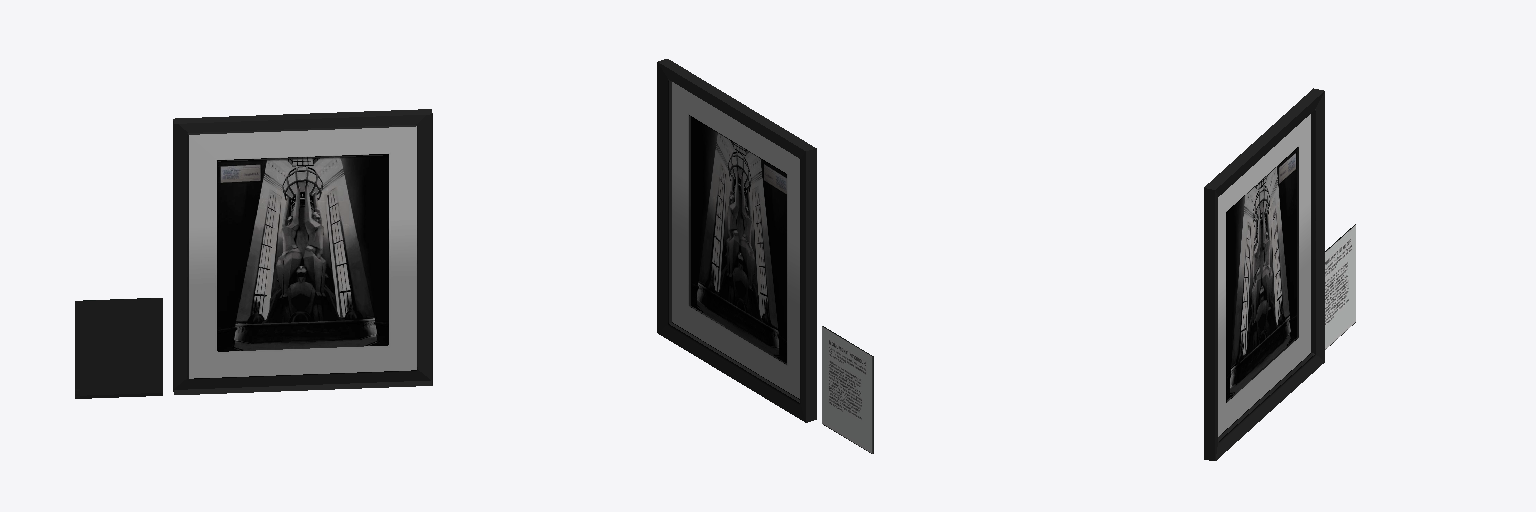
3 views of the same model, side by side, from view 1: azimuth 30°, elevation 25°; view 2: azimuth 150°, elevation 25°; view 3: azimuth 270°, elevation 25° (orthographic).
Visible parts, largest first — view 1: monumentshal; view 2: monumentshal; view 3: monumentshal.
Boxes of the visible parts, box(x1,y1,x2,y2) form: monumentshal: box(75, 109, 432, 398); monumentshal: box(657, 59, 873, 453); monumentshal: box(1204, 88, 1355, 460).
Bounding box in the file's own units: 0.6571 × 0.595 × 0.3034.
Materials: 1 (1 with a texture image).